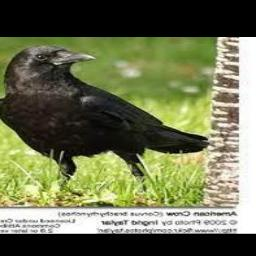Crow: (0, 44, 212, 207)
